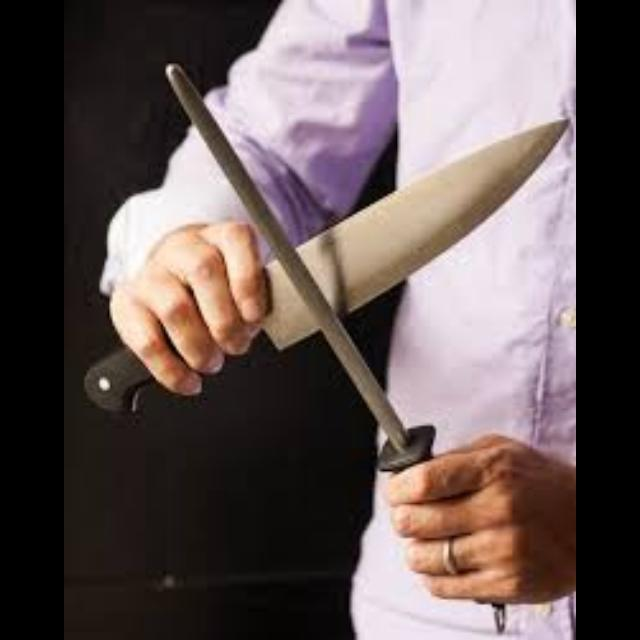knife: (121, 0, 576, 640), (81, 115, 568, 415), (112, 222, 266, 386)
